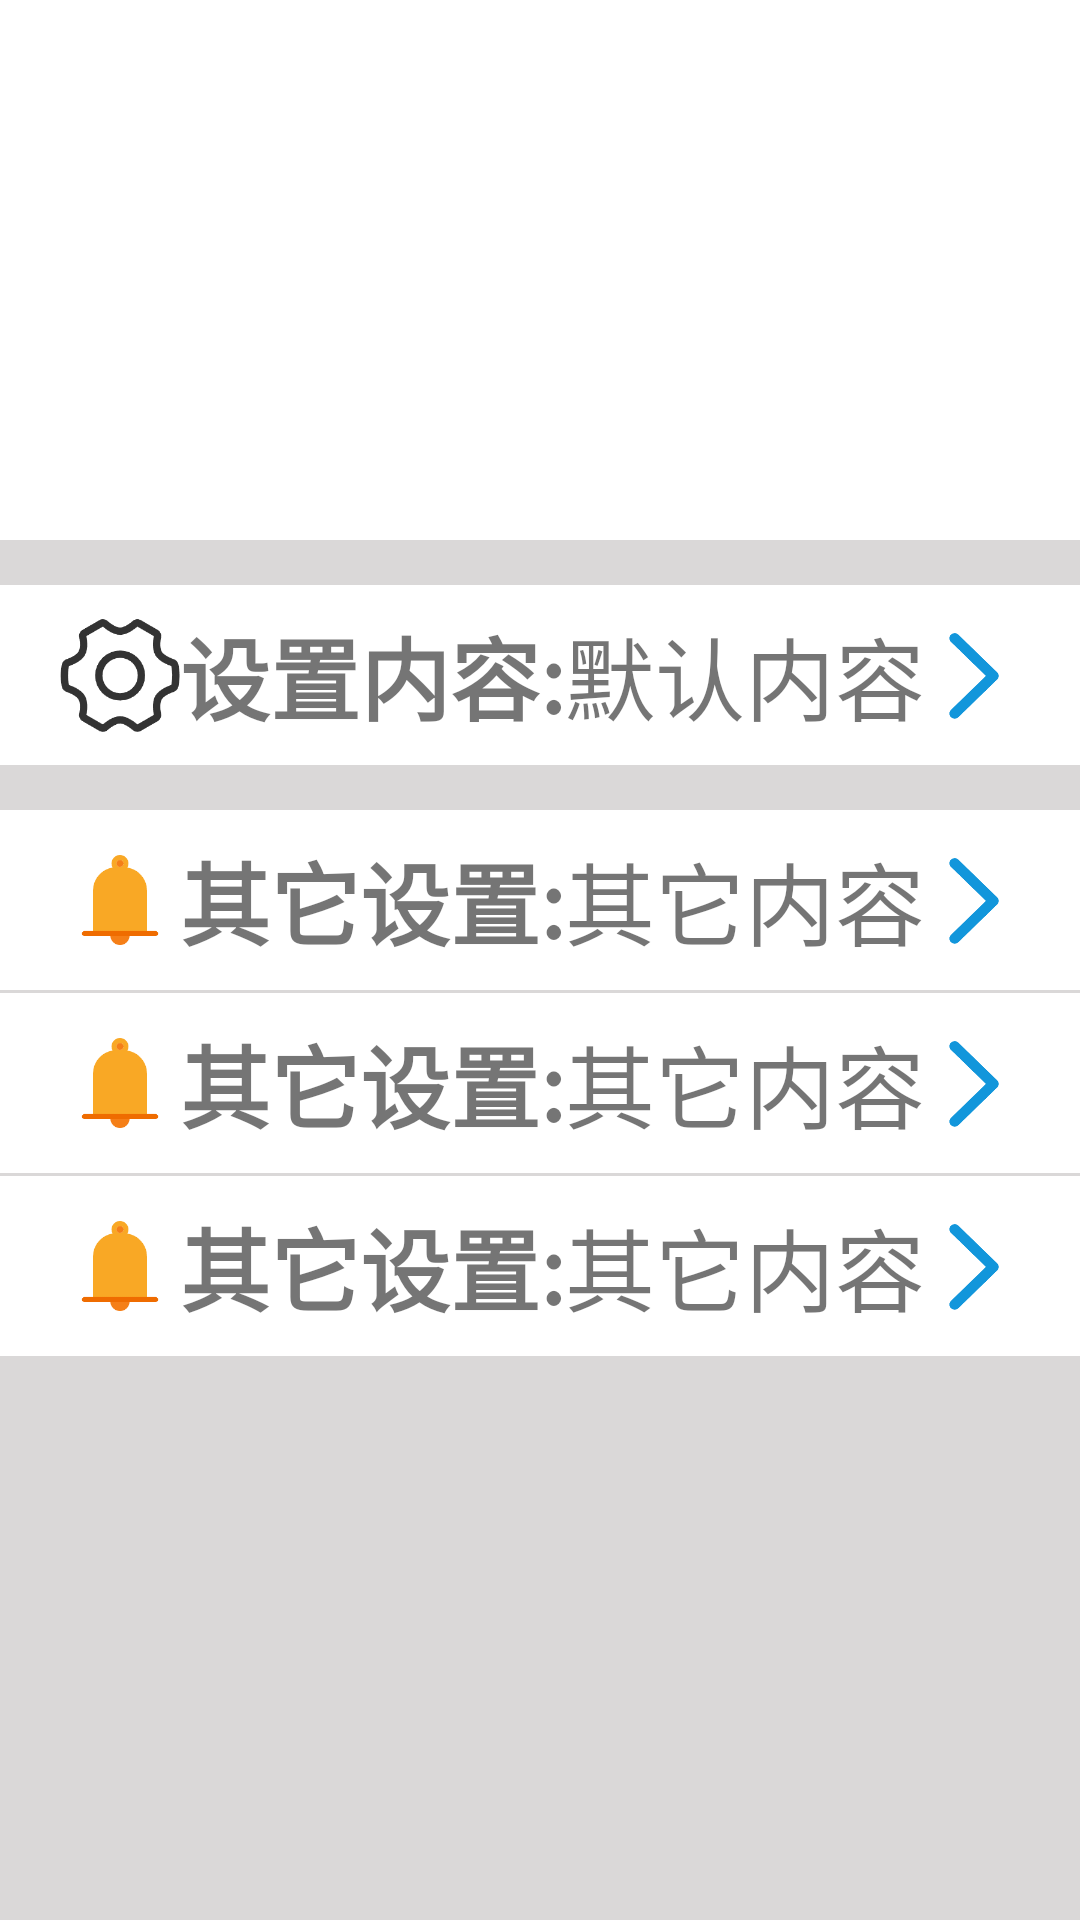

Locate icon controls on the screen. Image size 1080px×1920px, boxes as (x1, y1, x2, y2).
alert: (81, 855, 159, 945), (81, 1038, 159, 1128), (81, 1221, 159, 1311)
next: (949, 633, 999, 719), (949, 858, 999, 944), (949, 1041, 999, 1127), (949, 1224, 999, 1310)
setting: (60, 619, 180, 732)
